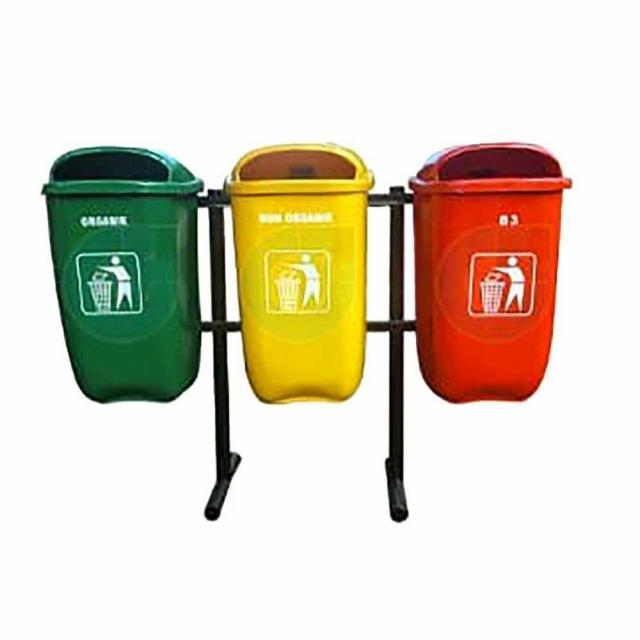Dumpster: (38, 144, 208, 403), (408, 139, 570, 402), (228, 141, 374, 408)
